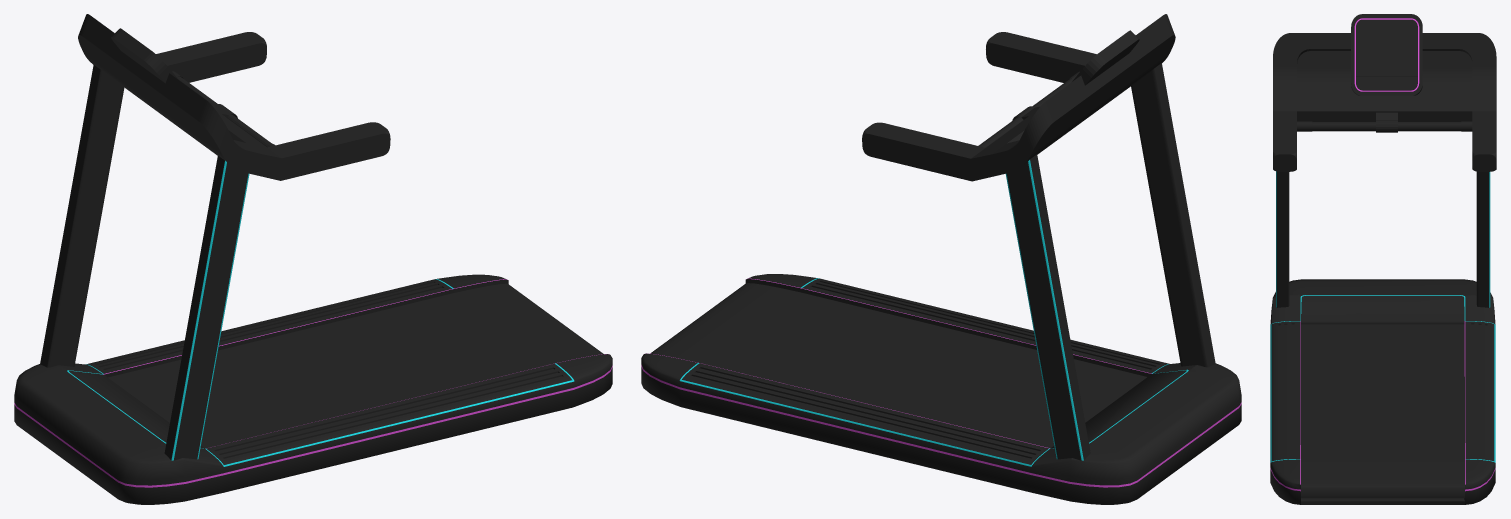
File: Caminadora.fbx
3 views of the same model, side by side, from view 1: azimuth 30°, elevation 25°; view 2: azimuth 150°, elevation 25°; view 3: azimuth 270°, elevation 25° (orthographic). The views are drawn at different scales.
Parts seen in each view (by area): view 1: Cube.005; view 2: Cube.005; view 3: Cube.005.
Part boxes in pixels (left/top/right/bottom): Cube.005: left=14, top=14, right=612, bottom=504; Cube.005: left=641, top=14, right=1241, bottom=504; Cube.005: left=1270, top=14, right=1496, bottom=504.
Bounding box in the file's own units: 169 × 138 × 83.25.
